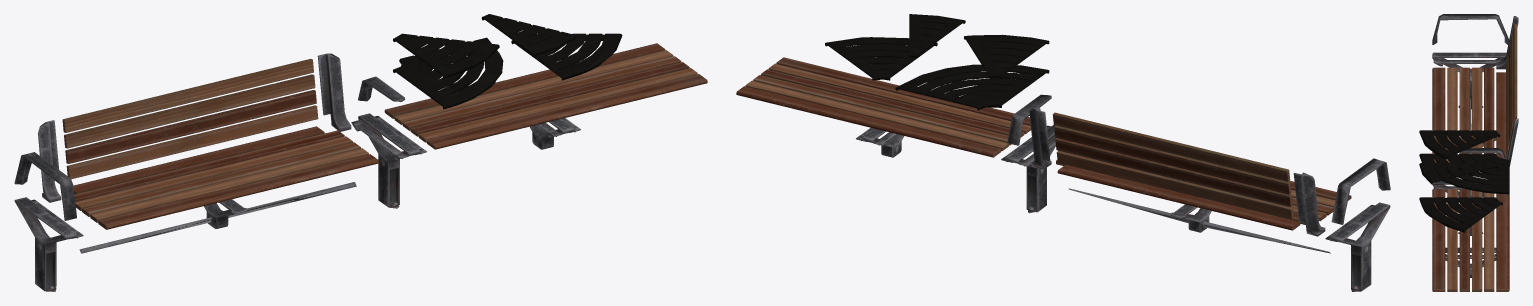
The model's file is modular_street_seating.glb.
3 renders of one model, left to right at view 1: azimuth 30°, elevation 25°; view 2: azimuth 150°, elevation 25°; view 3: azimuth 270°, elevation 25°, orthographic. The views are drawn at different scales.
Parts seen in each view (by area): view 1: seat_back, seat, seat_bench, connector_90, legs_double, connector_45, legs_single, connector_60, connector_30, back_support_l, crossbar, arm_rest_01 (+4 smaller); view 2: seat_bench, seat_back, connector_90, seat, connector_60, legs_single, connector_45, legs_double, connector_30, arm_rest_01, back_support_r, crossbar (+4 smaller); view 3: seat_bench, seat, connector_90, connector_60, connector_45, seat_back, connector_30, legs_single, arm_rest_01, back_support_r, legs_double, arm_rest_02 (+2 smaller).
Boxes of the visible parts, bbox=[...] form: seat_back: bbox=[62, 59, 318, 179]; seat: bbox=[73, 126, 378, 229]; seat_bench: bbox=[384, 43, 707, 149]; connector_90: bbox=[393, 37, 503, 109]; legs_double: bbox=[351, 113, 426, 208]; connector_45: bbox=[393, 33, 499, 78]; legs_single: bbox=[14, 197, 83, 291]; connector_60: bbox=[511, 33, 622, 80]; connector_30: bbox=[481, 14, 576, 56]; back_support_l: bbox=[317, 53, 351, 131]; crossbar: bbox=[79, 182, 356, 253]; arm_rest_01: bbox=[14, 152, 76, 220]; seat_bench: bbox=[736, 57, 1031, 157]; seat_back: bbox=[1052, 112, 1293, 219]; connector_90: bbox=[895, 64, 1049, 110]; seat: bbox=[1056, 160, 1351, 230]; connector_60: bbox=[825, 37, 937, 80]; legs_single: bbox=[1325, 202, 1390, 291]; connector_45: bbox=[964, 34, 1049, 78]; legs_double: bbox=[1001, 125, 1056, 213]; connector_30: bbox=[909, 14, 965, 57]; arm_rest_01: bbox=[1331, 158, 1390, 224]; back_support_r: bbox=[1293, 172, 1325, 236]; crossbar: bbox=[1068, 188, 1330, 253]; seat_bench: bbox=[1432, 189, 1509, 291]; seat: bbox=[1432, 67, 1506, 162]; connector_90: bbox=[1419, 153, 1509, 194]; connector_60: bbox=[1419, 197, 1502, 232]; connector_45: bbox=[1419, 130, 1500, 159]; seat_back: bbox=[1506, 24, 1517, 157]; connector_30: bbox=[1419, 163, 1498, 184]; legs_single: bbox=[1432, 52, 1506, 109]; arm_rest_01: bbox=[1432, 14, 1508, 44]; back_support_r: bbox=[1496, 16, 1518, 69]; legs_double: bbox=[1432, 179, 1488, 235]; arm_rest_02: bbox=[1460, 148, 1505, 159].
Bounding box in the file's own units: 4.34 × 0.95 × 0.7704.
Materials: 4 (4 with a texture image).
